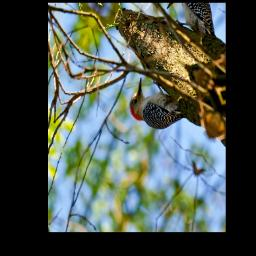Woodpecker: (120, 64, 196, 161)
